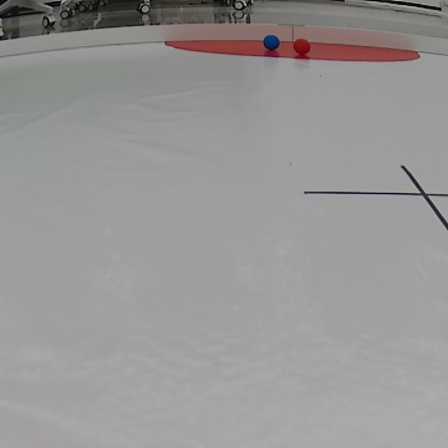blue: (262, 37, 281, 53)
red: (294, 39, 310, 52)
red_base: (164, 31, 424, 63)
